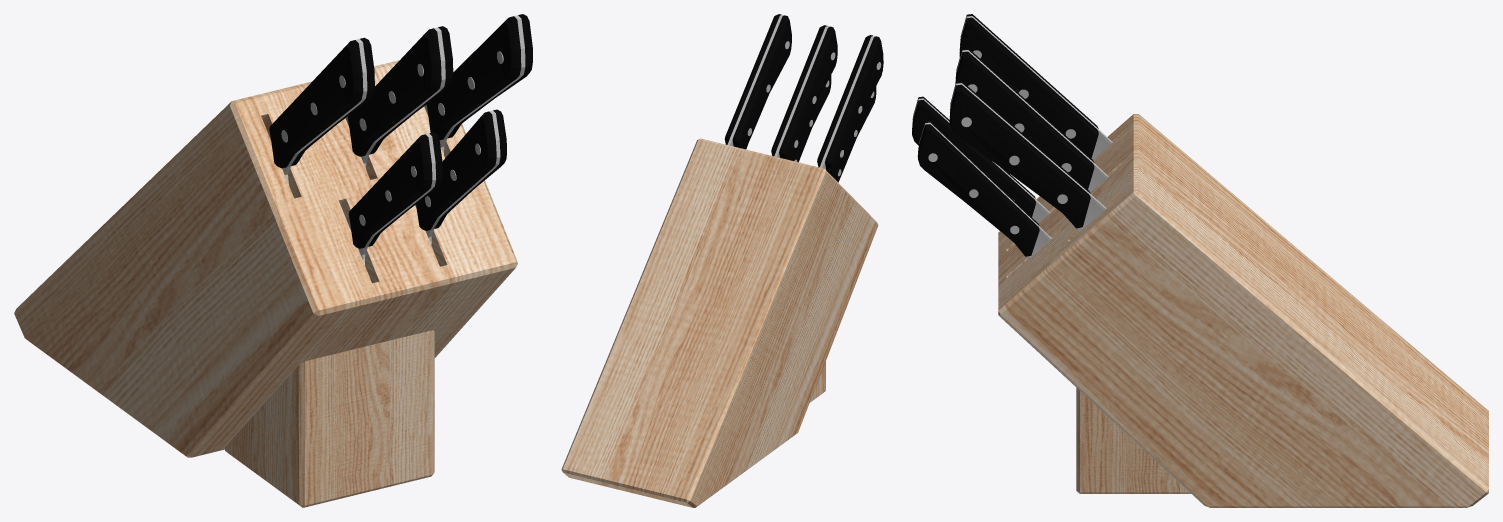
File: kitchenKnifeStandSet.obj
3 renders of one model, left to right at view 1: azimuth 30°, elevation 25°; view 2: azimuth 150°, elevation 25°; view 3: azimuth 270°, elevation 25°, orthographic. The views are drawn at different scales.
Visible parts, largest first — view 1: Stand_Cube.005, knife2_Cube.001, knife_Cube, knife.001_Cube.002, knife.002_Cube.003, knife.003_Cube.004; view 2: Stand_Cube.005, knife2_Cube.001, knife.001_Cube.002, knife_Cube, knife.003_Cube.004, knife.002_Cube.003; view 3: Stand_Cube.005, knife.001_Cube.002, knife.003_Cube.004, knife2_Cube.001, knife_Cube, knife.002_Cube.003.
Boxes of the visible parts, x1,y1,x2,y2 form: Stand_Cube.005: [14, 60, 517, 507]; knife2_Cube.001: [268, 37, 374, 184]; knife_Cube: [347, 26, 453, 168]; knife.001_Cube.002: [424, 14, 532, 154]; knife.002_Cube.003: [346, 132, 442, 264]; knife.003_Cube.004: [415, 109, 506, 244]; Stand_Cube.005: [561, 138, 878, 507]; knife2_Cube.001: [817, 35, 883, 179]; knife.001_Cube.002: [724, 14, 791, 149]; knife_Cube: [771, 25, 837, 160]; knife.003_Cube.004: [793, 75, 831, 162]; knife.002_Cube.003: [836, 86, 876, 182]; Stand_Cube.005: [998, 114, 1488, 507]; knife.001_Cube.002: [949, 81, 1106, 231]; knife.003_Cube.004: [917, 121, 1051, 259]; knife2_Cube.001: [959, 14, 1112, 159]; knife_Cube: [955, 48, 1108, 192]; knife.002_Cube.003: [912, 96, 1050, 223].
Bounding box in the file's own units: 9.04 × 21.91 × 27.14.
